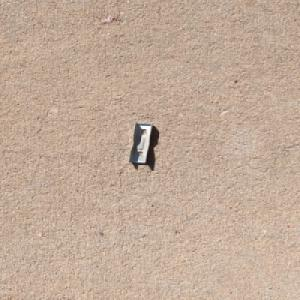ClampPart: (126, 120, 155, 164)
